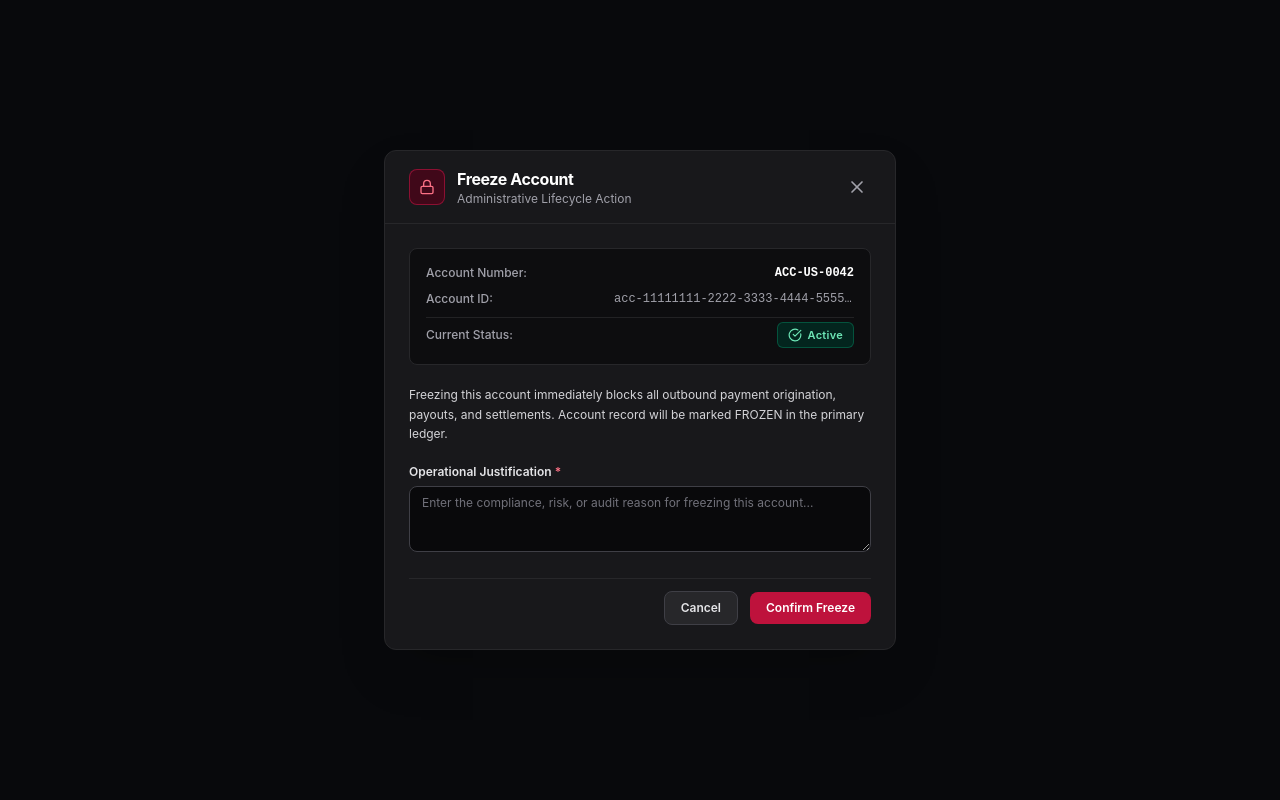
Test: Admin Account Lifecycle UI (Phase F7-G-E) › Error Handling & Stale State › handles 400 Bad Request without closing modal or executing optimistic changes
The width and height of the screenshot is (1280, 800).
Replace the text in the text box with test id "lifecycle-reason-input" with "Test reason" at (640, 519), box [409,486,871,552]
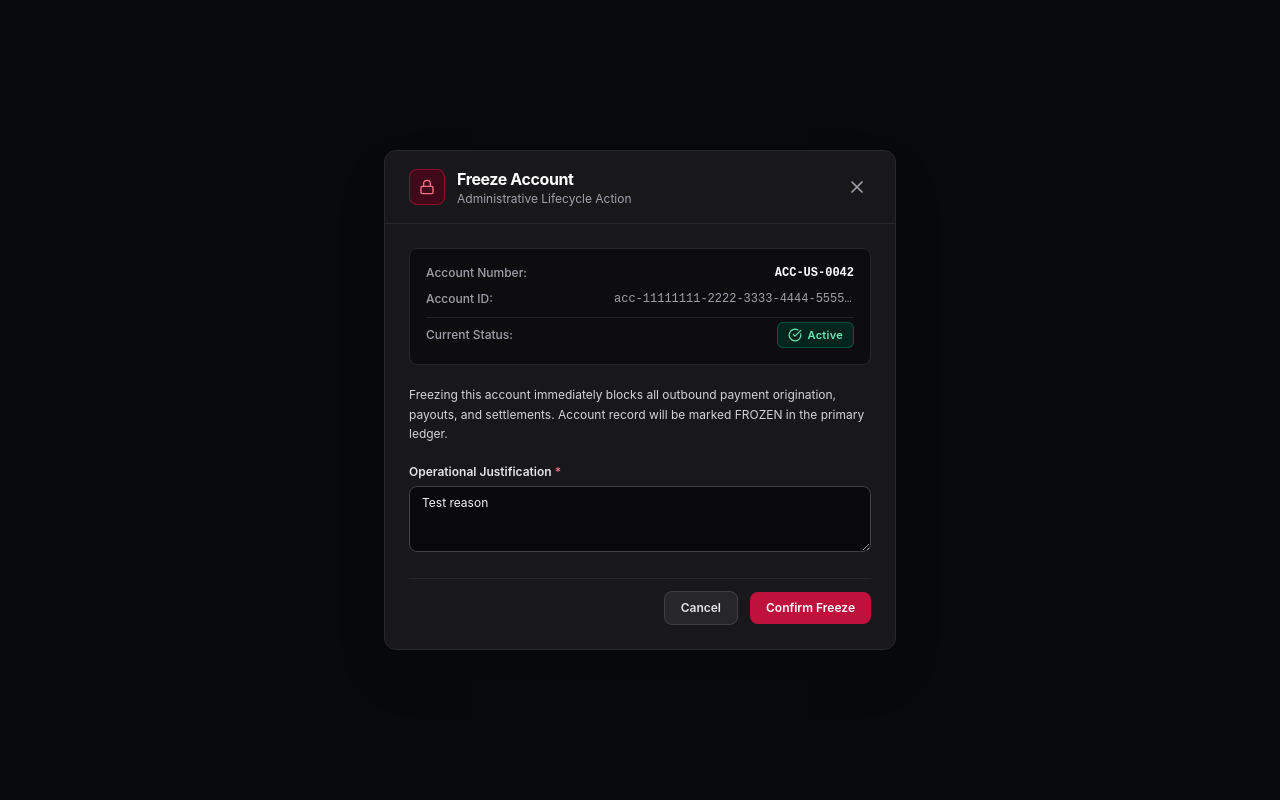
Click the button with test id "confirm-lifecycle-button".
click(810, 608)  # box [750,592,871,624]
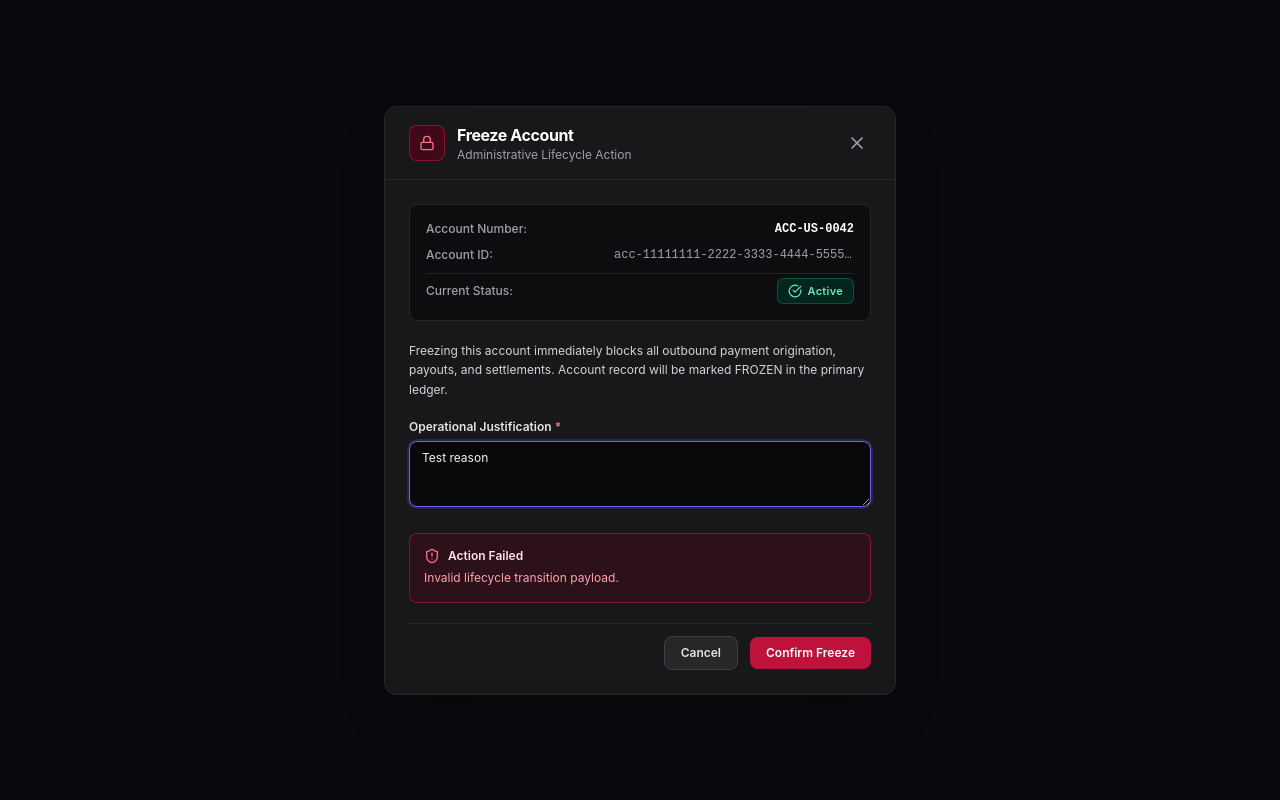
Result: the message "Action Failed Invalid lifecycle transition payload." is shown at [409,533,871,602]
Result: the text "Invalid lifecycle transition payload." is shown at [424,570,619,585]
